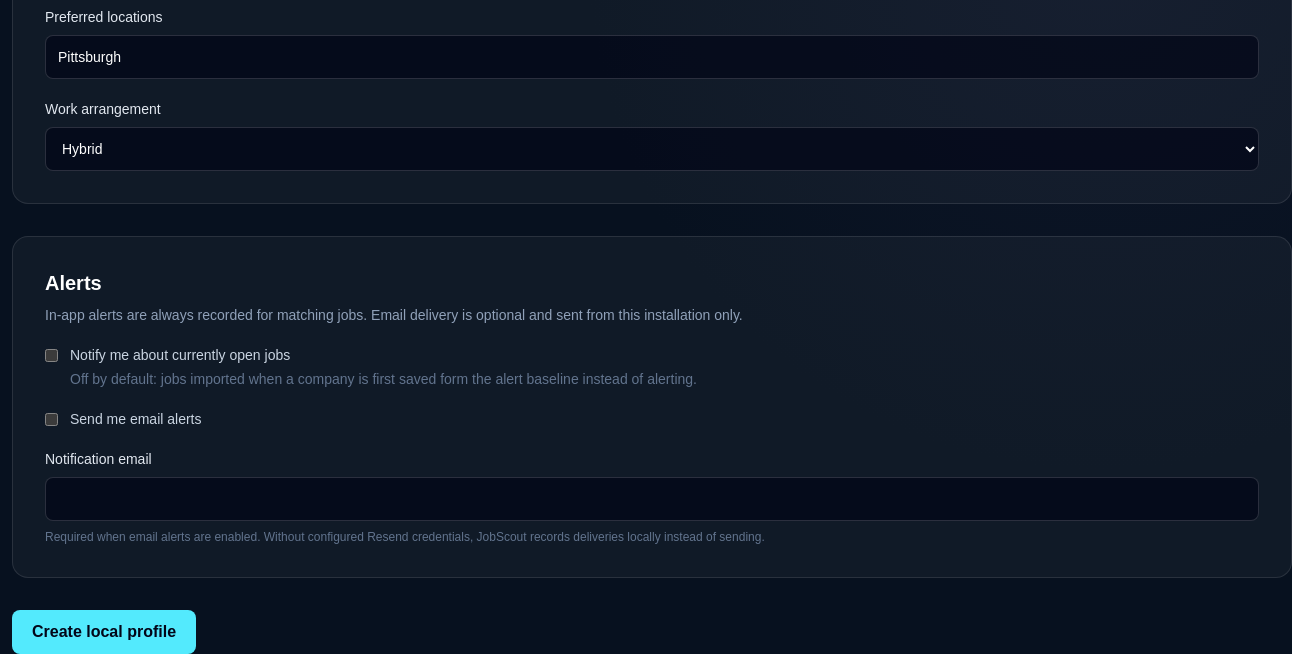
Scenario: local onboarding › persists the profile before settings without asking for a timezone
The width and height of the screenshot is (1292, 654).
(page scrolled)
Click the button "Create local profile": {"x": 104, "y": 632} 12,610 -> 196,653
(page scrolled)
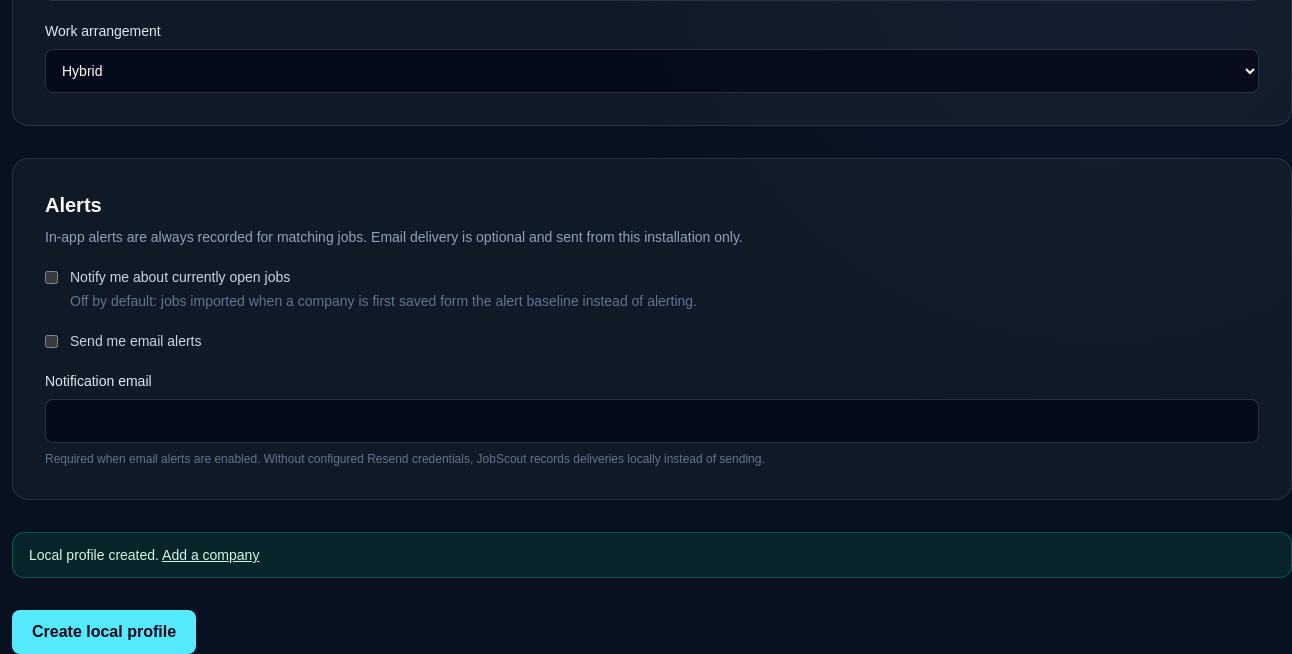
Expected: the message shows "Local profile created", 29,547 -> 159,563
